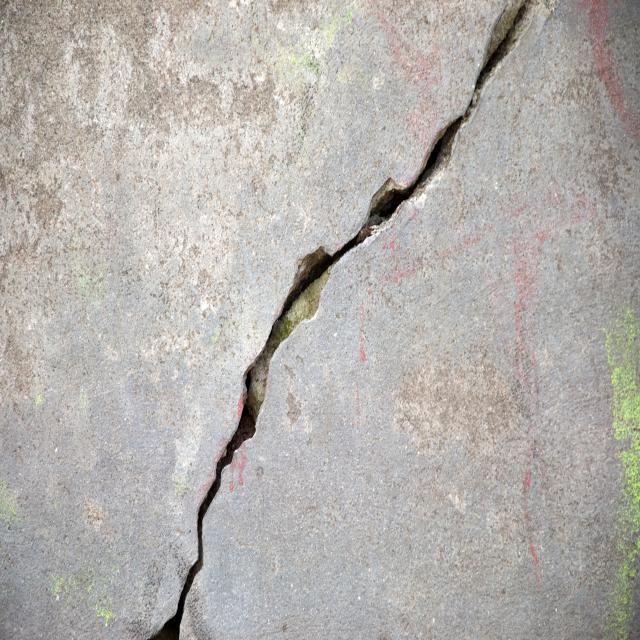Wall_Cracks: (115, 0, 557, 640)
